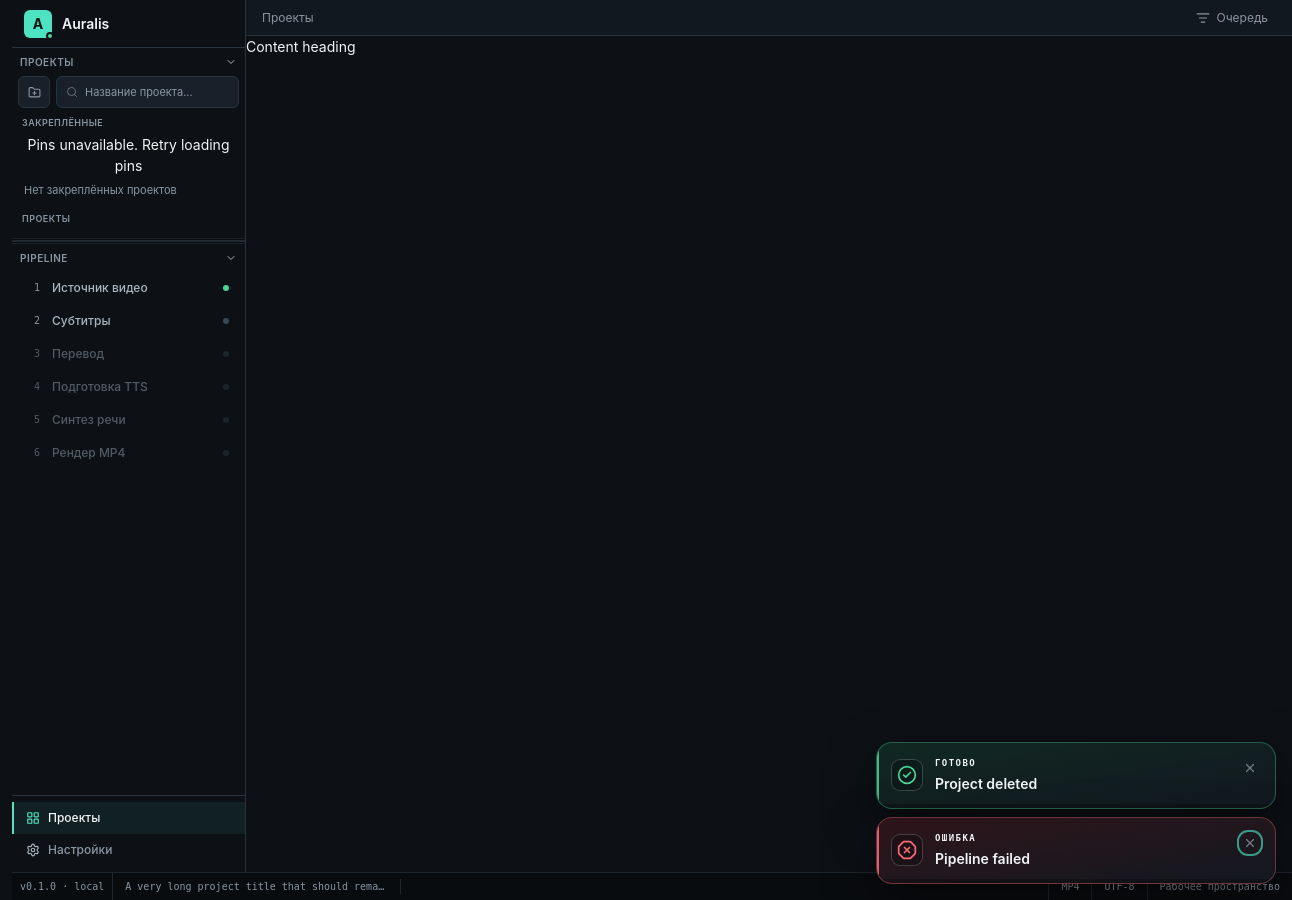
Test: AppShell › dismisses global toast without leaving focus on a removed control
Check: the heading "Pipeline failed" is shown, box [935,850,1030,866]
Click the button named "Close toast" in the row of "Pipeline failed" at point(1250, 843), box [1239,832,1261,854]
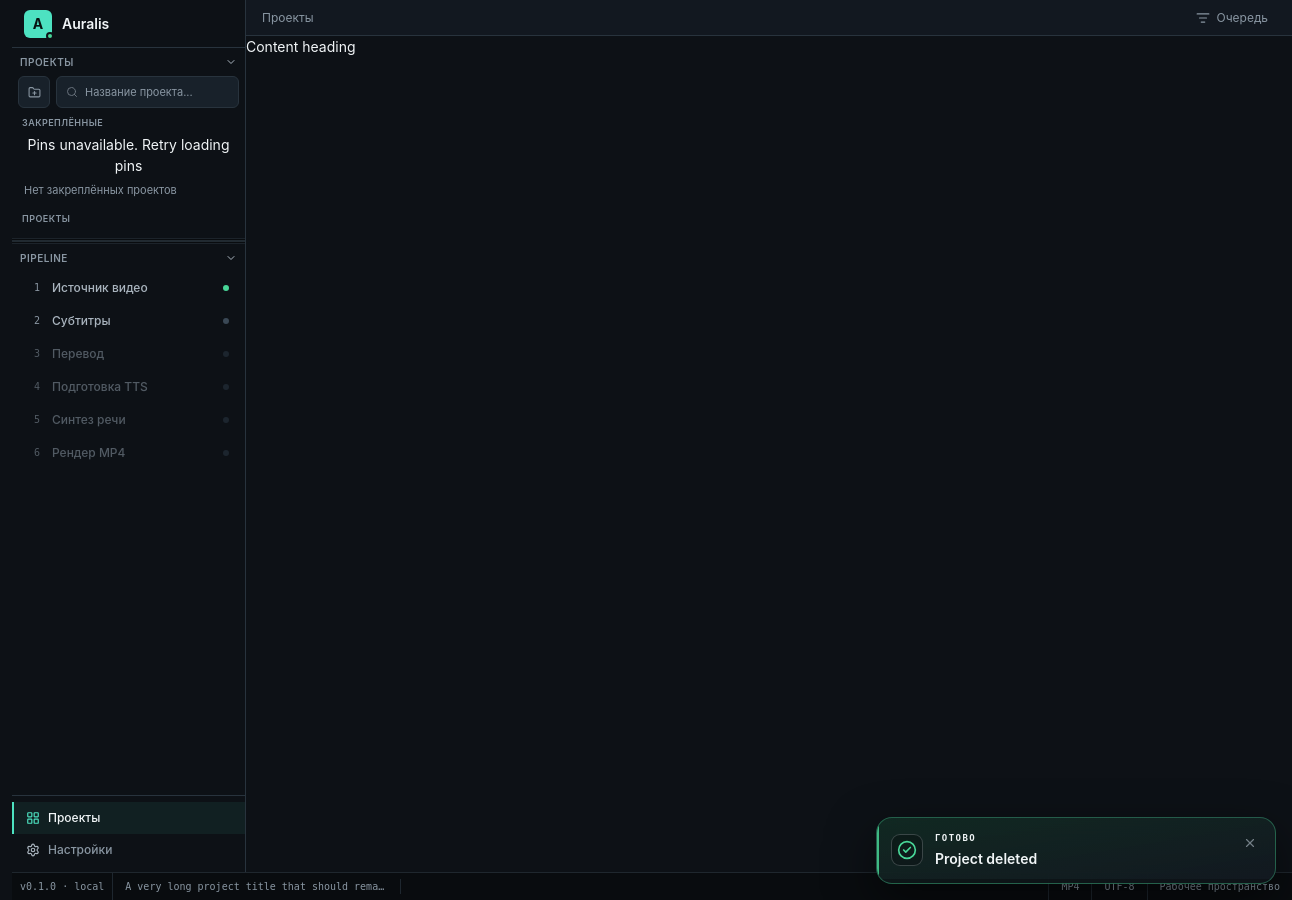
Check: the heading "Pipeline failed" is gone
